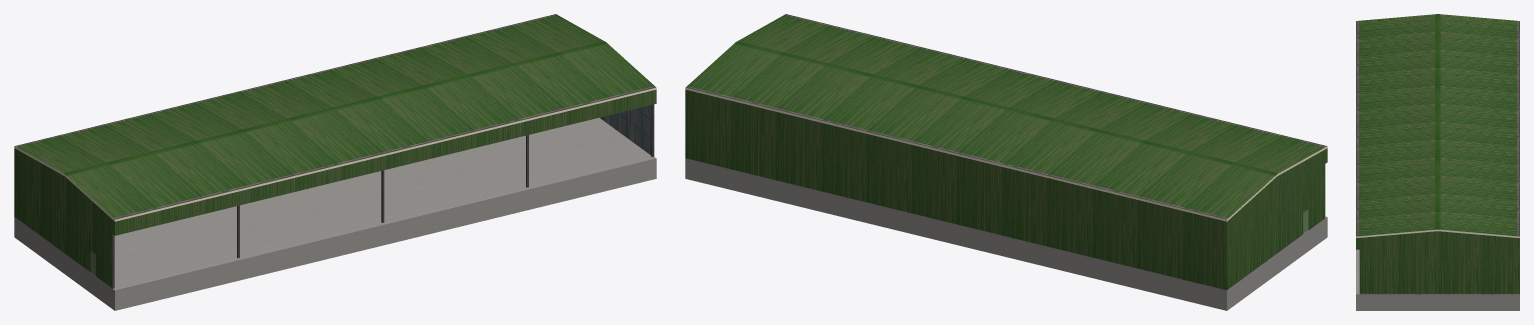
The model's file is hangar-open-side-56x18x7-cbj_LOD00.gltf.
The picture shows the model from 3 angles, left to right: view 1: azimuth 30°, elevation 25°; view 2: azimuth 150°, elevation 25°; view 3: azimuth 270°, elevation 25°; orthographic projection. The views are drawn at different scales.
Visible parts, largest first — view 1: inside01; view 2: inside01; view 3: inside01.
Part boxes in pixels (<box>): inside01: <box>14,14,656,310</box>; inside01: <box>685,14,1327,310</box>; inside01: <box>1356,14,1519,310</box>.
Size of the model in its own units: 56 by 9.87 by 18.
